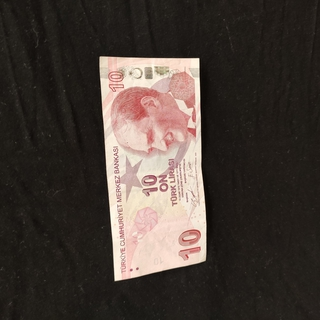10TLFront: (98, 55, 208, 283)
